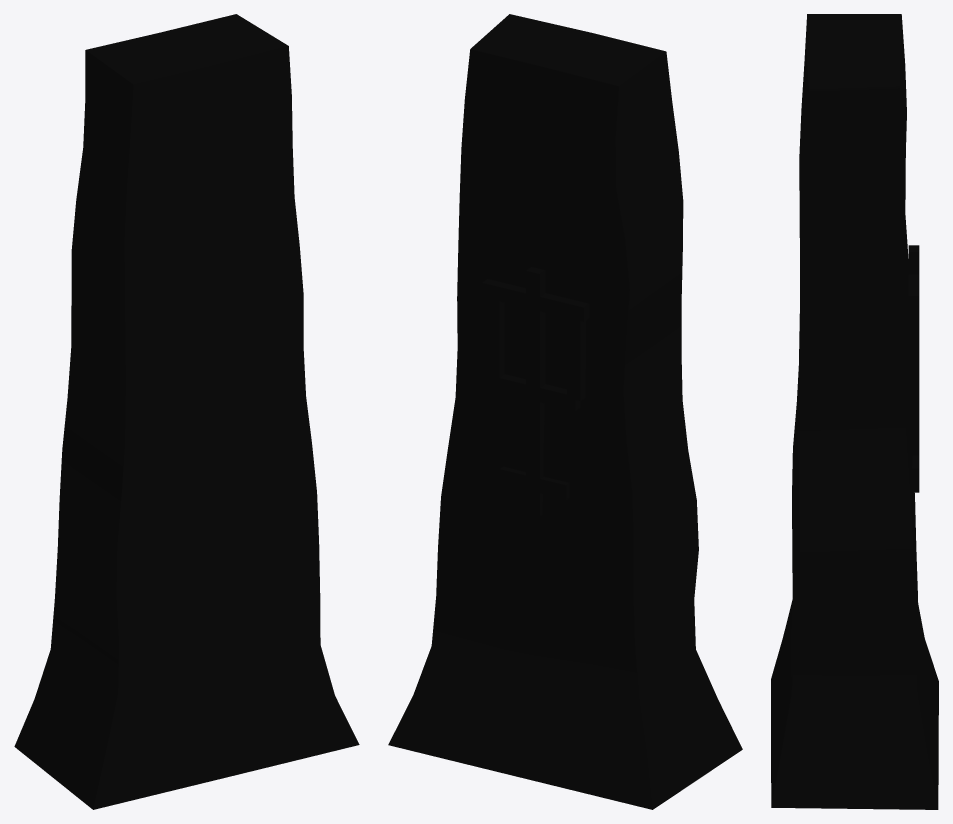
Rendered from rune_monolith_01.glb.
The picture shows the model from 3 angles, left to right: view 1: azimuth 30°, elevation 25°; view 2: azimuth 150°, elevation 25°; view 3: azimuth 270°, elevation 25°; orthographic projection.
Visible parts, largest first — view 1: rune_monolith_01; view 2: rune_monolith_01; view 3: rune_monolith_01.
Part boxes in pixels (x1,y1,x2,y2): rune_monolith_01: (14,14,359,809); rune_monolith_01: (388,14,742,809); rune_monolith_01: (771,14,938,809).
Bounding box in the file's own units: 1.46 × 3.6 × 0.7911.
Materials: 1 (1 with a texture image).
